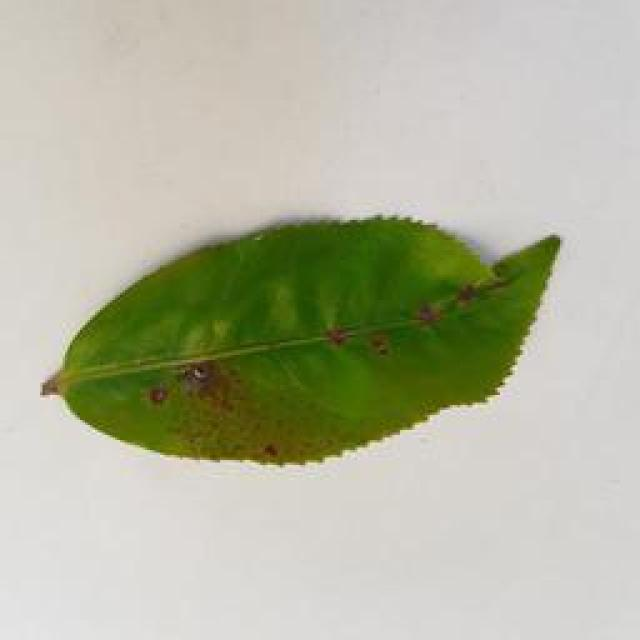Helopeltis: (37, 211, 564, 478)
